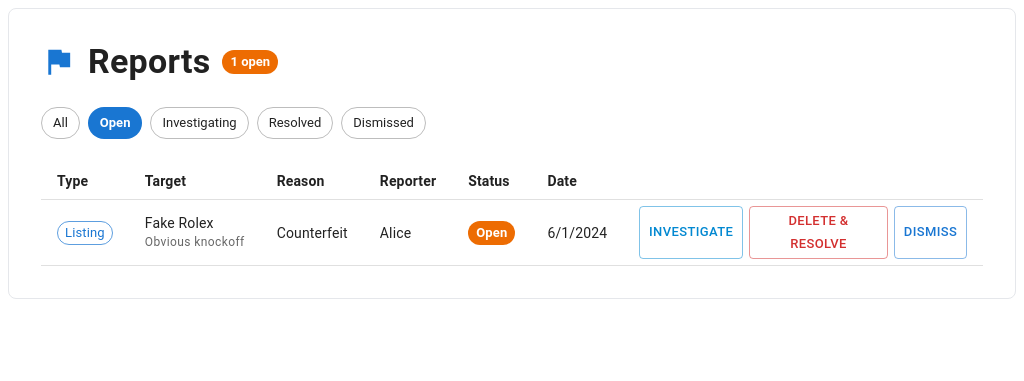
Scenario: ReportsPage › shows an error alert when dismiss fails
Expected: the text "Fake Rolex" is shown, [145, 215, 214, 231]
Step 1. Click the button "Dismiss" → (930, 233), box [894, 206, 967, 260]
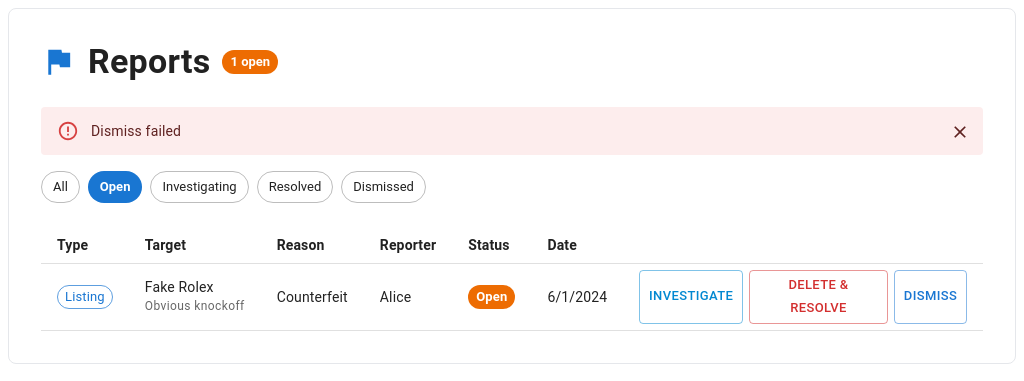
Expected: the text "Fake Rolex" is shown, [145, 279, 214, 295]
Result: the text "Dismiss failed" is shown at [91, 123, 181, 139]
